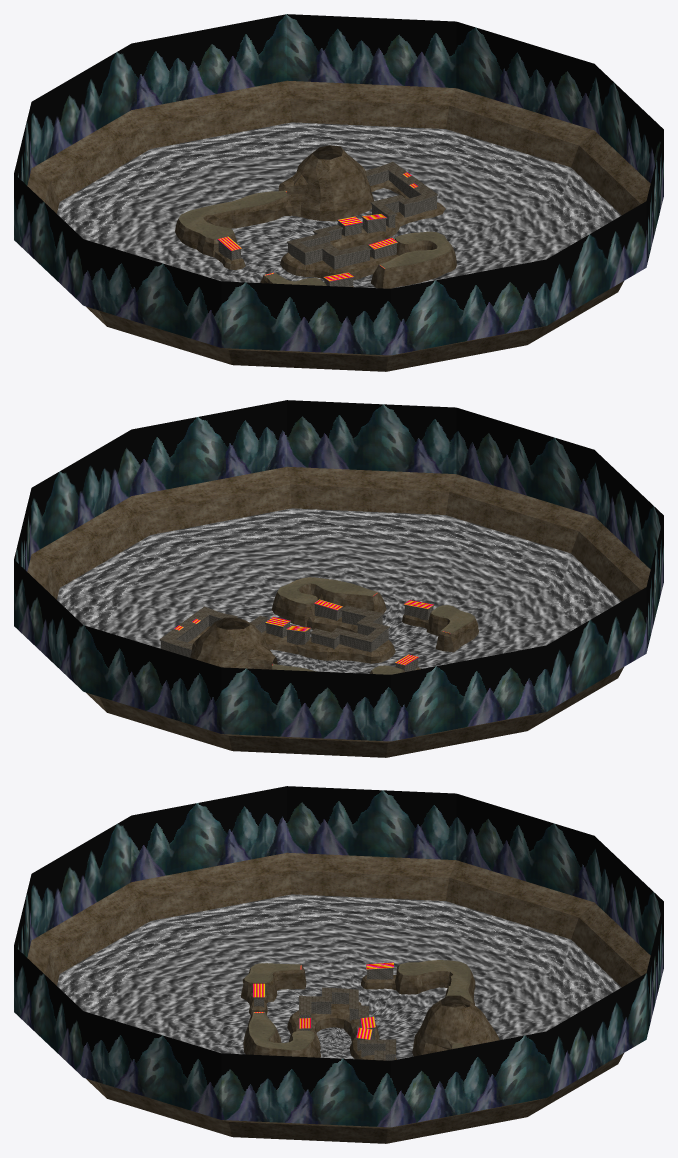
3 views of the same model, one above another, from view 1: azimuth 30°, elevation 25°; view 2: azimuth 150°, elevation 25°; view 3: azimuth 270°, elevation 25° (orthographic).
Parts seen in each view (by area): view 1: Plane.055, Plane.061, Cone, Plane.058, Plane.062, Plane.060, Plane.056; view 2: Plane.055, Cone, Plane.061, Plane.058, Plane.062, Plane.060, Plane.056; view 3: Plane.055, Cone, Plane.061, Plane.062, Plane.058, Plane.060, Plane.056.
Part boxes in pixels (<box>): Plane.055: <box>14,14,663,355</box>; Plane.061: <box>27,80,650,371</box>; Cone: <box>57,122,621,288</box>; Plane.058: <box>217,170,437,286</box>; Plane.062: <box>178,190,451,285</box>; Plane.060: <box>287,161,437,256</box>; Plane.056: <box>218,172,417,281</box>; Plane.055: <box>14,400,663,741</box>; Cone: <box>57,508,621,673</box>; Plane.061: <box>27,466,650,757</box>; Plane.058: <box>159,603,434,671</box>; Plane.062: <box>272,577,475,674</box>; Plane.060: <box>160,605,389,649</box>; Plane.056: <box>174,592,450,665</box>; Plane.055: <box>14,786,663,1127</box>; Cone: <box>57,894,621,1059</box>; Plane.061: <box>27,852,650,1143</box>; Plane.062: <box>244,960,472,1050</box>; Plane.058: <box>253,968,396,1060</box>; Plane.060: <box>299,987,455,1060</box>; Plane.056: <box>253,962,393,1039</box>.
Size of the model in its own units: 246836 by 48547 by 246836.
9 materials, 9 textured.
